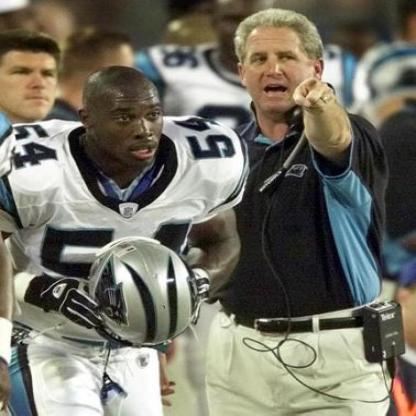face: (92, 69, 172, 172), (242, 12, 318, 113), (1, 33, 67, 122)
